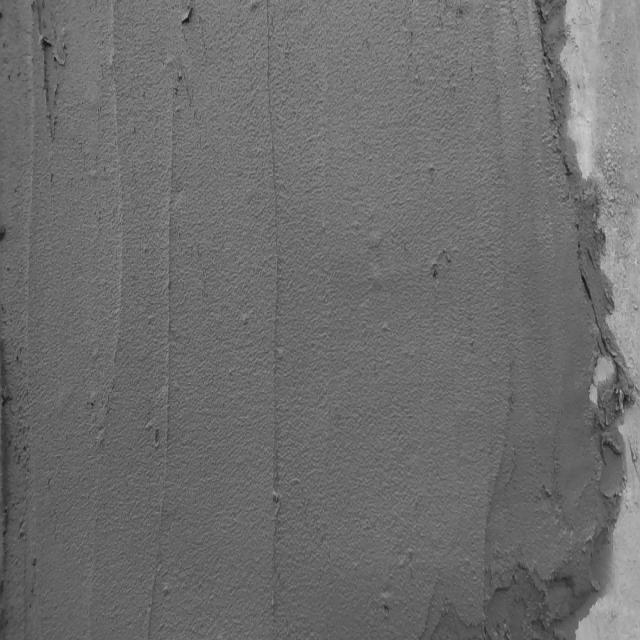trowels marks: (266, 20, 283, 511), (164, 106, 176, 454)
